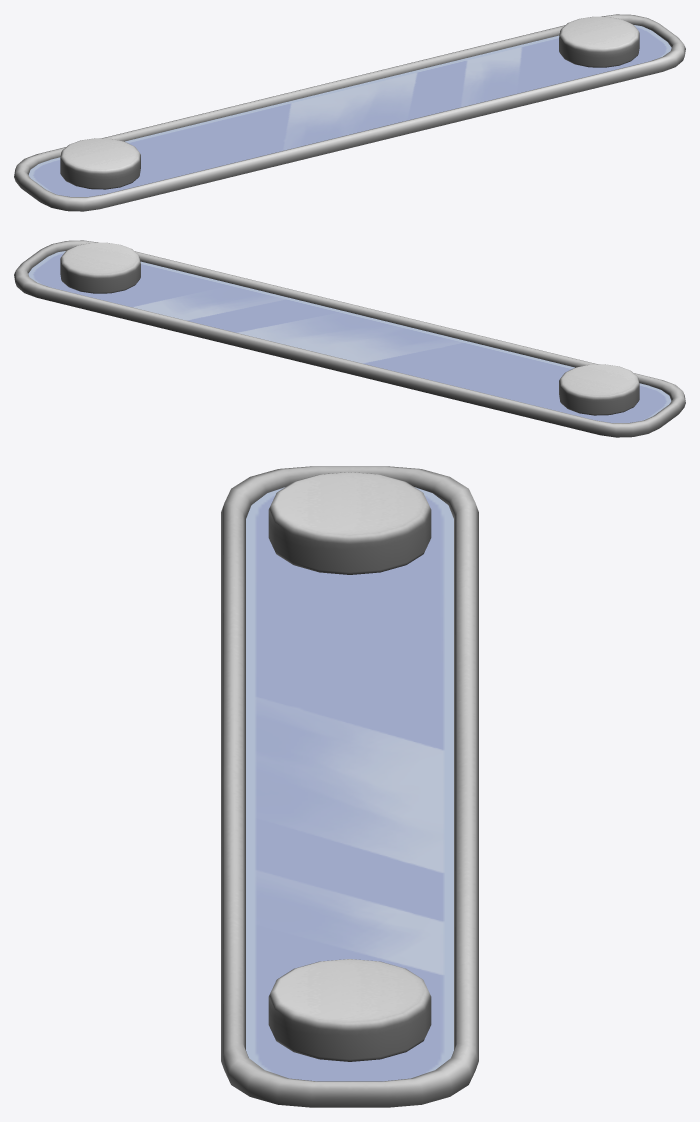
The model's file is GlassBarrier.fbx.
The picture shows the model from 3 angles, top to bottom: view 1: azimuth 30°, elevation 25°; view 2: azimuth 150°, elevation 25°; view 3: azimuth 270°, elevation 25°; orthographic projection. The views are drawn at different scales.
Visible parts, largest first — view 1: glass, khung, polySurface28, polySurface29; view 2: glass, khung, polySurface28, polySurface29; view 3: glass, khung, polySurface29, polySurface28.
Part boxes in pixels (x1=…): glass: x1=28, y1=25, x2=671, y2=196; khung: x1=14, y1=14, x2=685, y2=211; polySurface28: x1=60, y1=138, x2=140, y2=189; polySurface29: x1=559, y1=16, x2=639, y2=67; glass: x1=28, y1=251, x2=671, y2=422; khung: x1=14, y1=240, x2=685, y2=437; polySurface28: x1=559, y1=364, x2=639, y2=415; polySurface29: x1=60, y1=242, x2=140, y2=293; glass: x1=246, y1=487, x2=453, y2=1081; khung: x1=221, y1=466, x2=478, y2=1107; polySurface29: x1=268, y1=959, x2=431, y2=1061; polySurface28: x1=268, y1=472, x2=431, y2=574.
Size of the model in its own units: 659 by 24.01 by 115.
